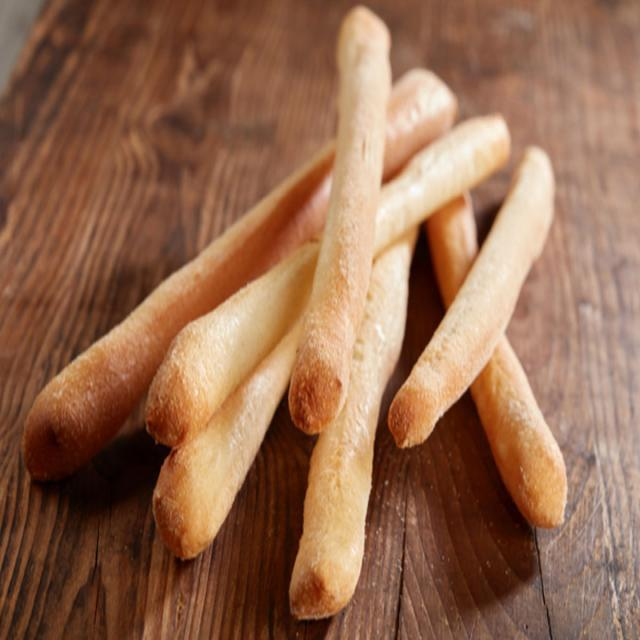Grissini: (37, 38, 582, 608)
